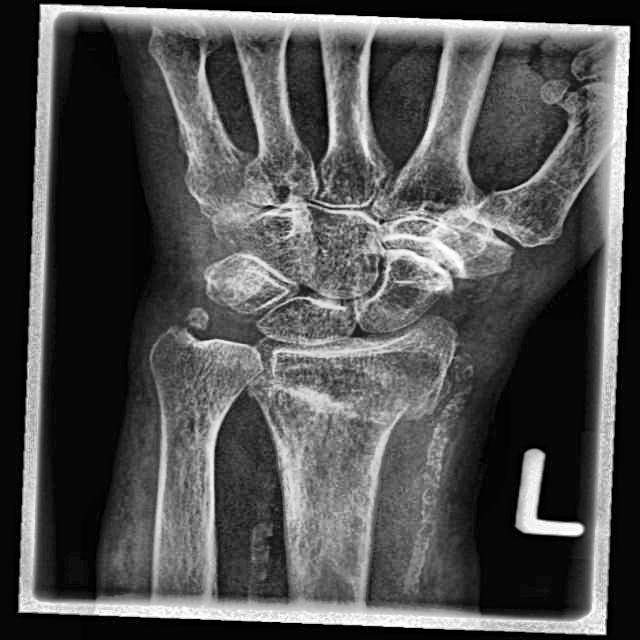Oblique Displaced: (531, 71, 620, 172)
